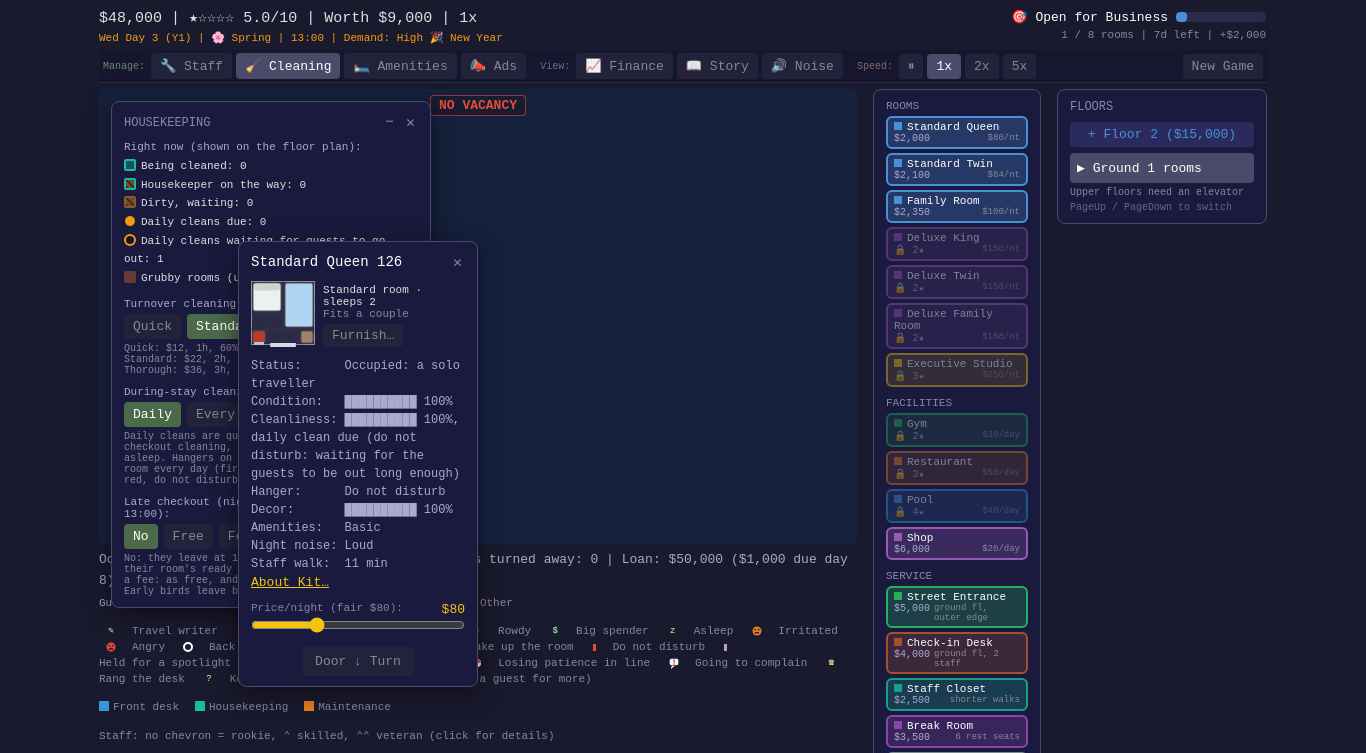
Scenario: Guests and service › a do-not-disturb room: the hanger on its card, its guest’s wishes, and the cleaning panel counts it waiting
Expected: the dialog "Standard Queen" shows "Hanger: Do not disturb", x1=251 y1=359 x2=467 y2=571
Expected: the dialog "Standard Queen" shows "do not disturb: waiting for the guests to be out long enough", x1=251 y1=359 x2=467 y2=571
Click the button "About Kit…": (290,582) x1=251 y1=575 x2=329 y2=590
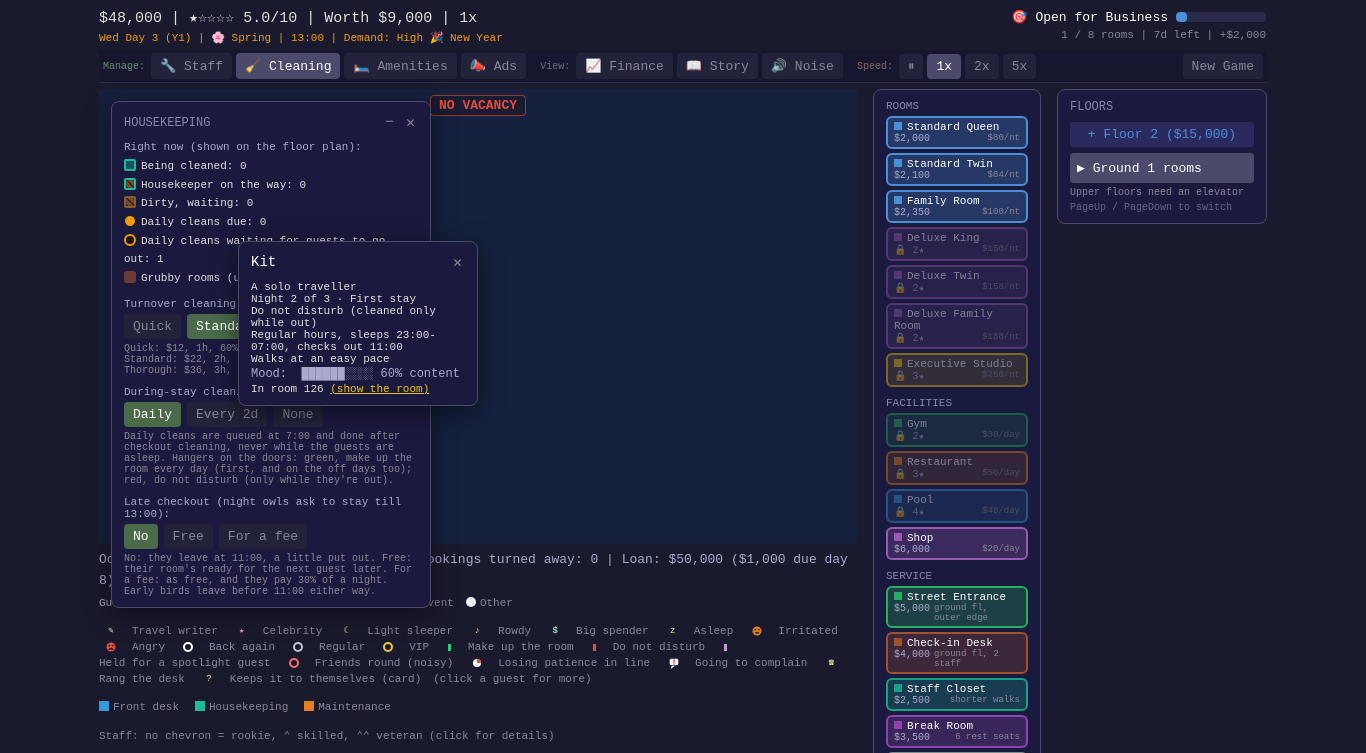
Expected: the dialog "Kit" shows "Do not disturb (cleaned only while out)", x1=251 y1=305 x2=436 y2=329
